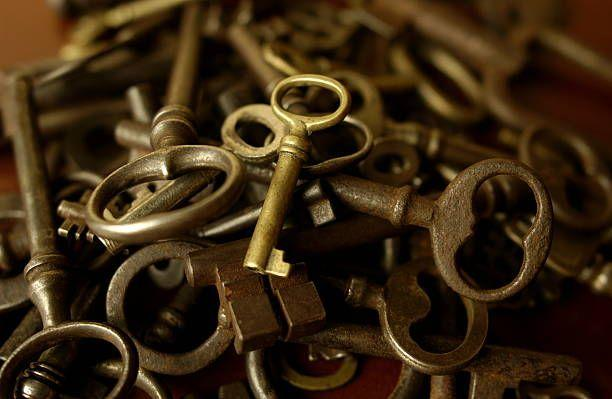metal: (105, 192, 437, 378), (211, 146, 566, 282), (0, 72, 140, 399), (80, 0, 250, 246), (269, 246, 494, 378), (232, 69, 351, 281)
